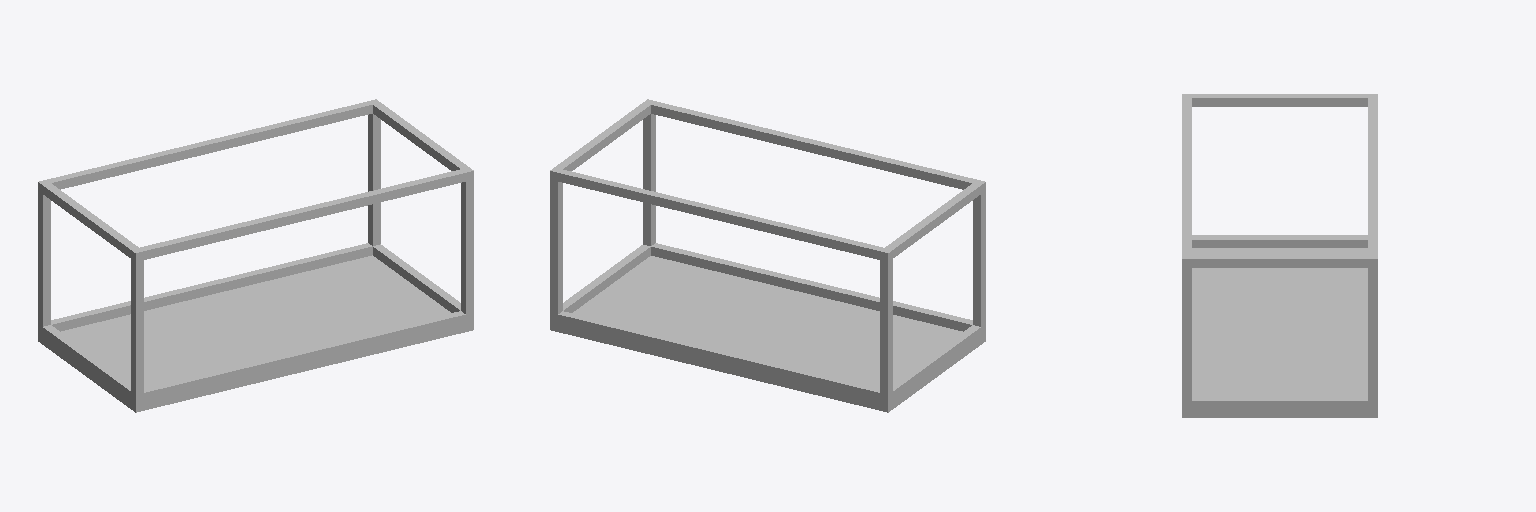
Rendered from aquarium.obj.
3 renders of one model, left to right at view 1: azimuth 30°, elevation 25°; view 2: azimuth 150°, elevation 25°; view 3: azimuth 270°, elevation 25°, orthographic.
Parts seen in each view (by area): view 1: Cube_Cube.002; view 2: Cube_Cube.002; view 3: Cube_Cube.002.
Boxes of the visible parts, x1=… form: Cube_Cube.002: x1=38, y1=99, x2=473, y2=412; Cube_Cube.002: x1=550, y1=99, x2=985, y2=412; Cube_Cube.002: x1=1182, y1=94, x2=1377, y2=417.
Bounding box in the file's own units: 4 × 1.8 × 2.